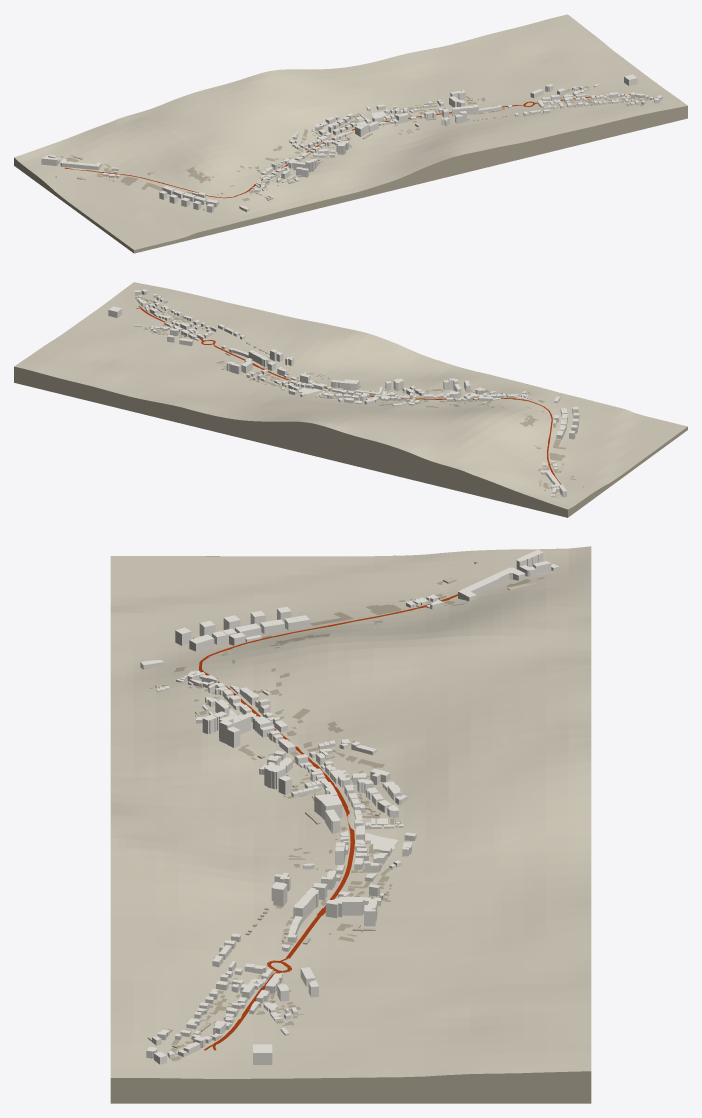
The model's file is rua-do-brasil.glb.
3 renders of one model, top to bottom at view 1: azimuth 30°, elevation 25°; view 2: azimuth 150°, elevation 25°; view 3: azimuth 270°, elevation 25°, orthographic. The views are drawn at different scales.
Visible parts, largest first — view 1: Terreno, Edif_medida, Base, Edif_desconhecida, Via, Edif_tipo; view 2: Terreno, Base, Edif_medida, Edif_desconhecida, Via; view 3: Terreno, Edif_medida, Base, Edif_desconhecida, Via, Edif_tipo.
Part boxes in pixels (box(x1,y1,x2,y2)): Terreno: box(14, 14, 687, 249); Edif_medida: box(41, 74, 662, 212); Base: box(14, 105, 687, 253); Edif_desconhecida: box(60, 86, 655, 201); Via: box(64, 94, 635, 198); Edif_tipo: box(55, 95, 642, 210); Terreno: box(14, 282, 687, 509); Base: box(14, 366, 687, 517); Edif_medida: box(108, 289, 579, 497); Edif_desconhecida: box(135, 297, 574, 497); Via: box(136, 306, 560, 484); Terreno: box(110, 546, 591, 1078); Edif_medida: box(140, 550, 559, 1064); Base: box(110, 548, 591, 1103); Edif_desconhecida: box(150, 577, 544, 1061); Via: box(199, 594, 457, 1050); Edif_tipo: box(147, 561, 535, 1048).
Bounding box in the file's own units: 2050 × 114 × 770.
